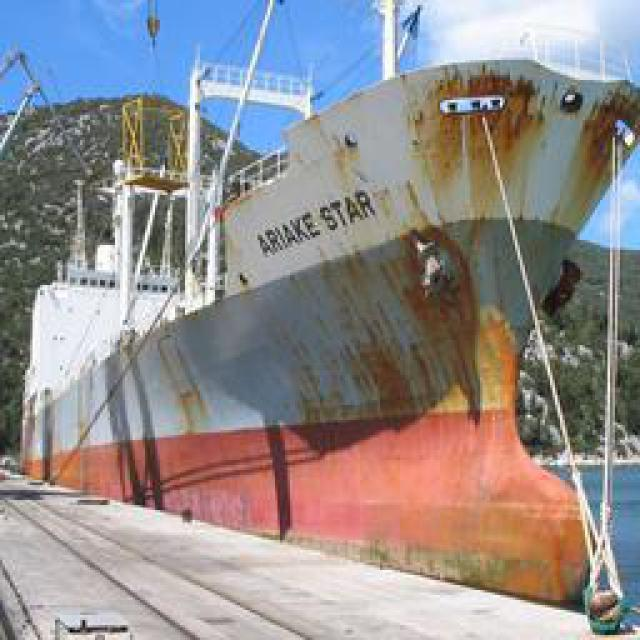Ship: (16, 34, 640, 588)
